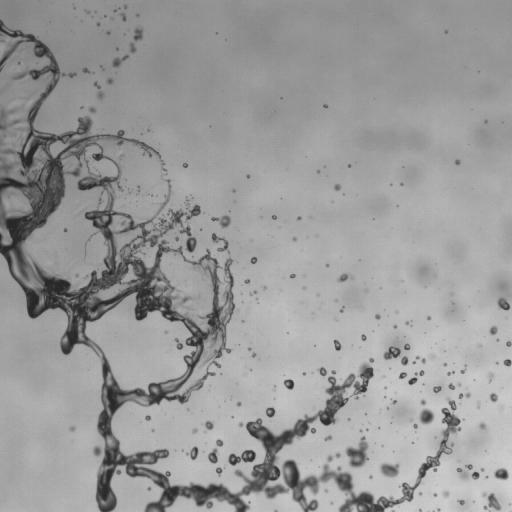droplet: (345, 436, 368, 467), (482, 492, 501, 511), (457, 464, 479, 480), (211, 233, 228, 251), (380, 462, 399, 477), (418, 408, 434, 424), (383, 346, 400, 359), (212, 215, 230, 227), (208, 447, 218, 463), (187, 446, 198, 460), (494, 468, 508, 479), (497, 298, 509, 310), (133, 28, 142, 40), (338, 273, 350, 282), (284, 379, 294, 389), (266, 407, 275, 417), (204, 421, 213, 430), (334, 339, 341, 350), (489, 326, 497, 335), (318, 367, 326, 376), (401, 356, 408, 365), (503, 359, 511, 366), (490, 393, 497, 401), (216, 467, 223, 475), (130, 43, 136, 52), (479, 422, 486, 429), (216, 439, 223, 446), (442, 490, 449, 497), (487, 372, 493, 380), (433, 386, 441, 392), (97, 91, 103, 98), (250, 257, 257, 263), (399, 372, 406, 378), (121, 13, 126, 21), (107, 78, 113, 84), (89, 107, 95, 113), (334, 184, 340, 190), (404, 344, 410, 350), (448, 383, 454, 389), (324, 435, 331, 440), (94, 82, 99, 88), (361, 334, 366, 340), (420, 399, 425, 405), (69, 426, 75, 431), (68, 73, 75, 77), (83, 68, 88, 73), (375, 314, 380, 319), (506, 341, 511, 346), (145, 415, 150, 420), (192, 428, 197, 433), (447, 371, 453, 375), (458, 500, 464, 504), (455, 160, 460, 164), (290, 274, 295, 278), (245, 279, 250, 283), (340, 307, 344, 312), (461, 368, 465, 373), (236, 402, 241, 406), (413, 423, 417, 428), (183, 163, 187, 167), (272, 215, 276, 219), (297, 216, 300, 220), (252, 353, 255, 357), (392, 400, 396, 403), (324, 104, 327, 107), (175, 237, 178, 240), (293, 237, 296, 240), (427, 316, 430, 319), (107, 31, 109, 34), (247, 174, 249, 177), (64, 228, 66, 231), (75, 274, 78, 276), (263, 287, 266, 289), (406, 321, 408, 324), (394, 325, 396, 328), (444, 363, 446, 366), (303, 372, 305, 375), (477, 404, 479, 407), (481, 468, 483, 471), (148, 487, 150, 490), (434, 493, 436, 496), (419, 509, 422, 511), (86, 11, 88, 13), (97, 22, 99, 24), (119, 156, 121, 158), (165, 331, 167, 333), (458, 383, 460, 385), (325, 489, 327, 491)
ligament: (0, 20, 450, 511), (228, 449, 255, 465), (408, 370, 424, 384), (112, 55, 128, 67), (0, 85, 9, 92), (416, 356, 425, 363), (459, 393, 470, 398), (137, 186, 140, 193), (251, 290, 256, 294), (435, 509, 440, 511), (274, 510, 277, 511), (391, 510, 394, 511)
